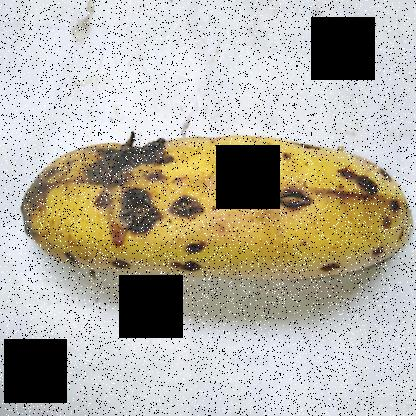rotten: (66, 121, 209, 241), (4, 144, 84, 250), (331, 146, 402, 198), (168, 227, 224, 280), (283, 109, 332, 169), (269, 158, 316, 218), (366, 195, 416, 249), (216, 146, 265, 198), (310, 252, 347, 300), (106, 242, 142, 281), (64, 235, 93, 280), (360, 236, 390, 272)
